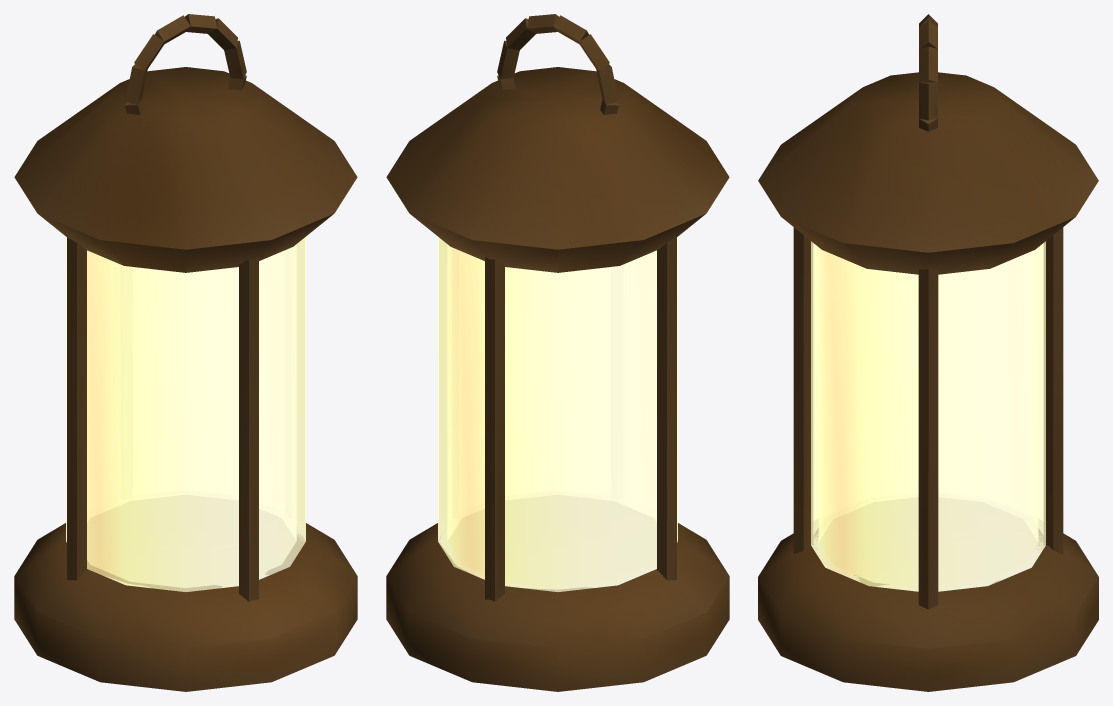
File: Hold_Lantern.fbx
3 renders of one model, left to right at view 1: azimuth 30°, elevation 25°; view 2: azimuth 150°, elevation 25°; view 3: azimuth 270°, elevation 25°, orthographic.
Parts seen in each view (by area): view 1: Hold_Lantern; view 2: Hold_Lantern; view 3: Hold_Lantern.
Part boxes in pixels (bbox=[...]): Hold_Lantern: bbox=[14, 14, 357, 691]; Hold_Lantern: bbox=[386, 14, 729, 691]; Hold_Lantern: bbox=[758, 14, 1098, 691].
Size of the model in its own units: 0.18 by 0.35 by 0.18.
Materials: 2 (1 with a texture image).
